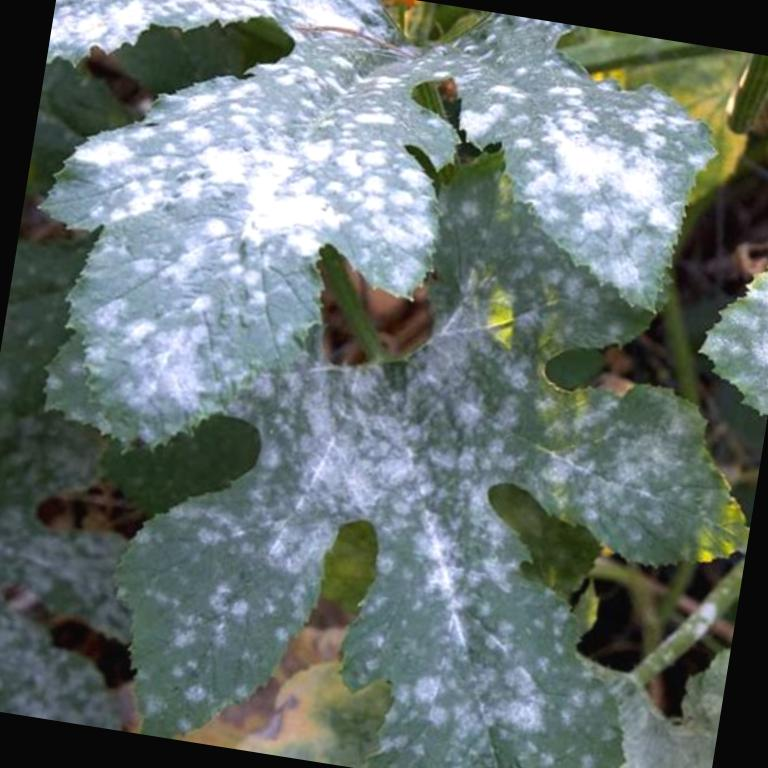powdery-mildew: (186, 94, 417, 248), (504, 85, 690, 248), (338, 380, 506, 552), (105, 256, 279, 419)
